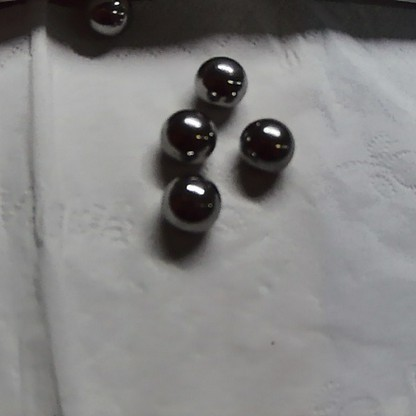ironball: (228, 108, 299, 172), (152, 170, 223, 231), (187, 45, 250, 106), (157, 104, 215, 162), (82, 0, 141, 36)
